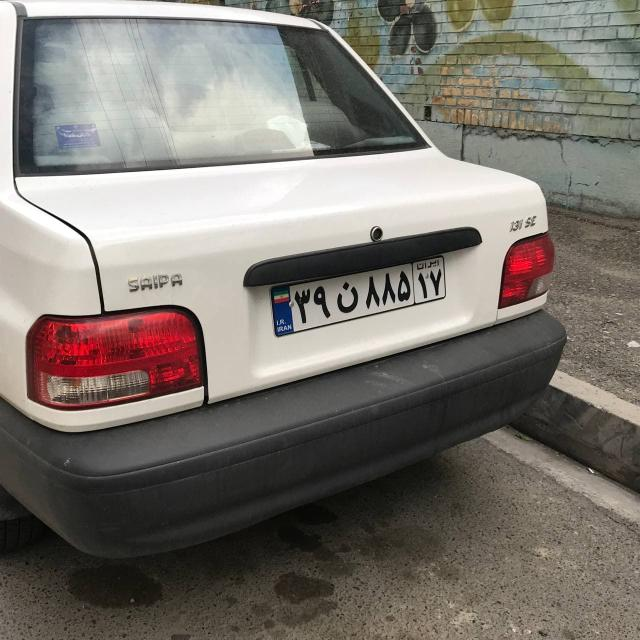Plates: (263, 246, 452, 337)
